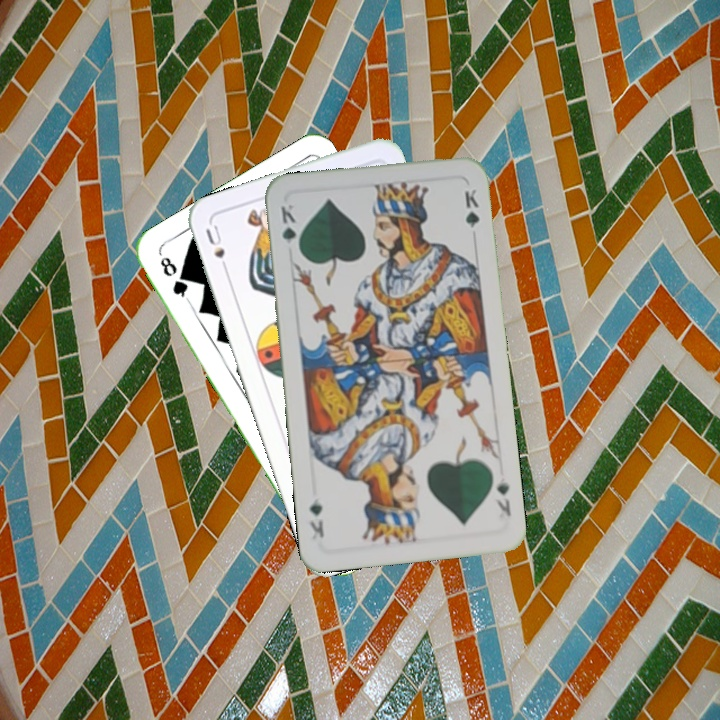G8: (156, 252, 192, 304)
GK: (277, 200, 303, 257), (491, 477, 514, 519)
SU: (201, 220, 232, 278)
